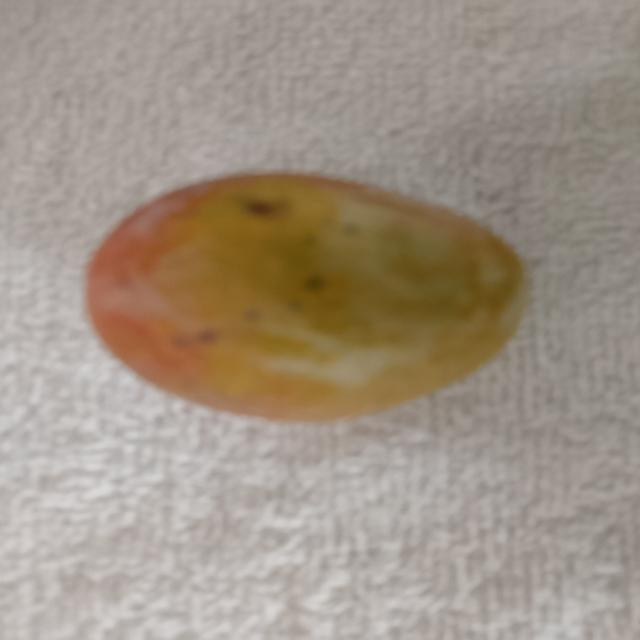mango: (88, 175, 527, 420)
